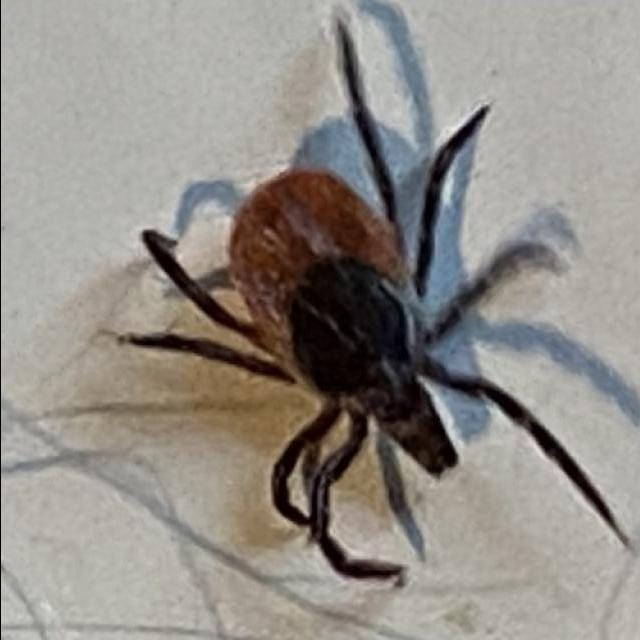Ixodes Ricinus-F: (119, 16, 635, 579)
